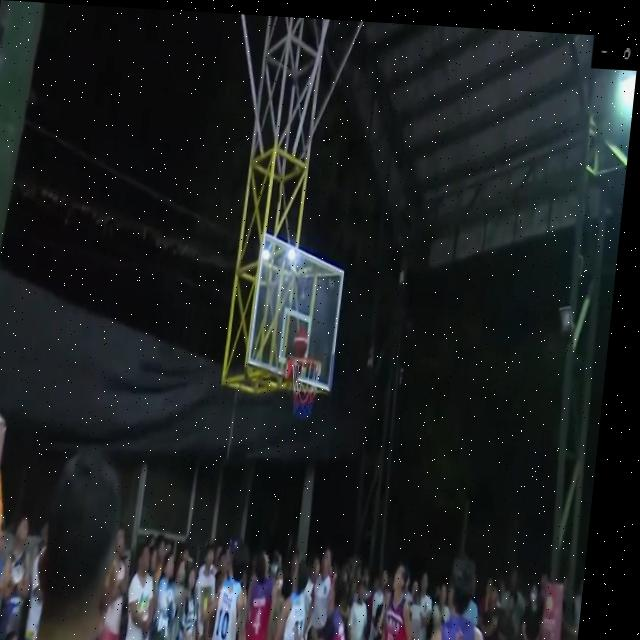basketball: (291, 325, 311, 359)
hoop: (285, 355, 323, 424)
